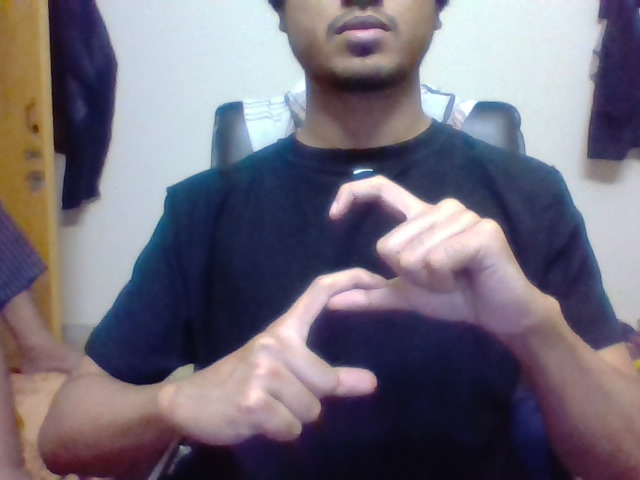S: (291, 172, 400, 399)
